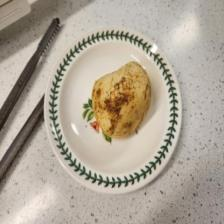Potato: (91, 60, 152, 138)
